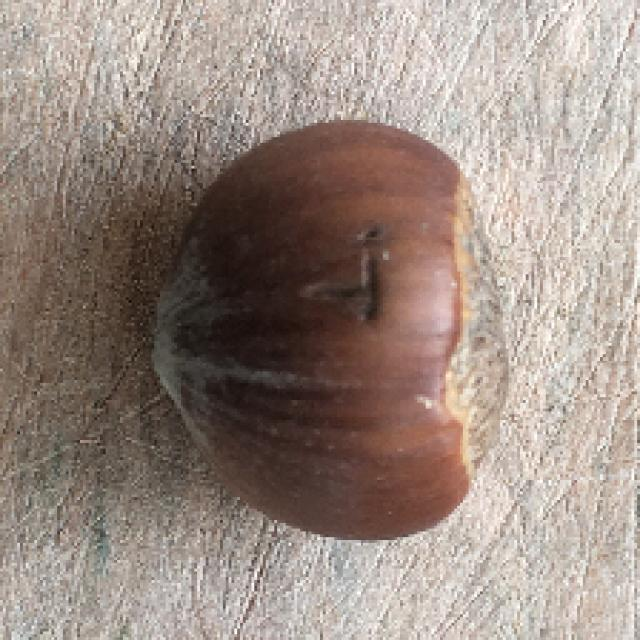DamagedHazelnut: (154, 116, 511, 544)
